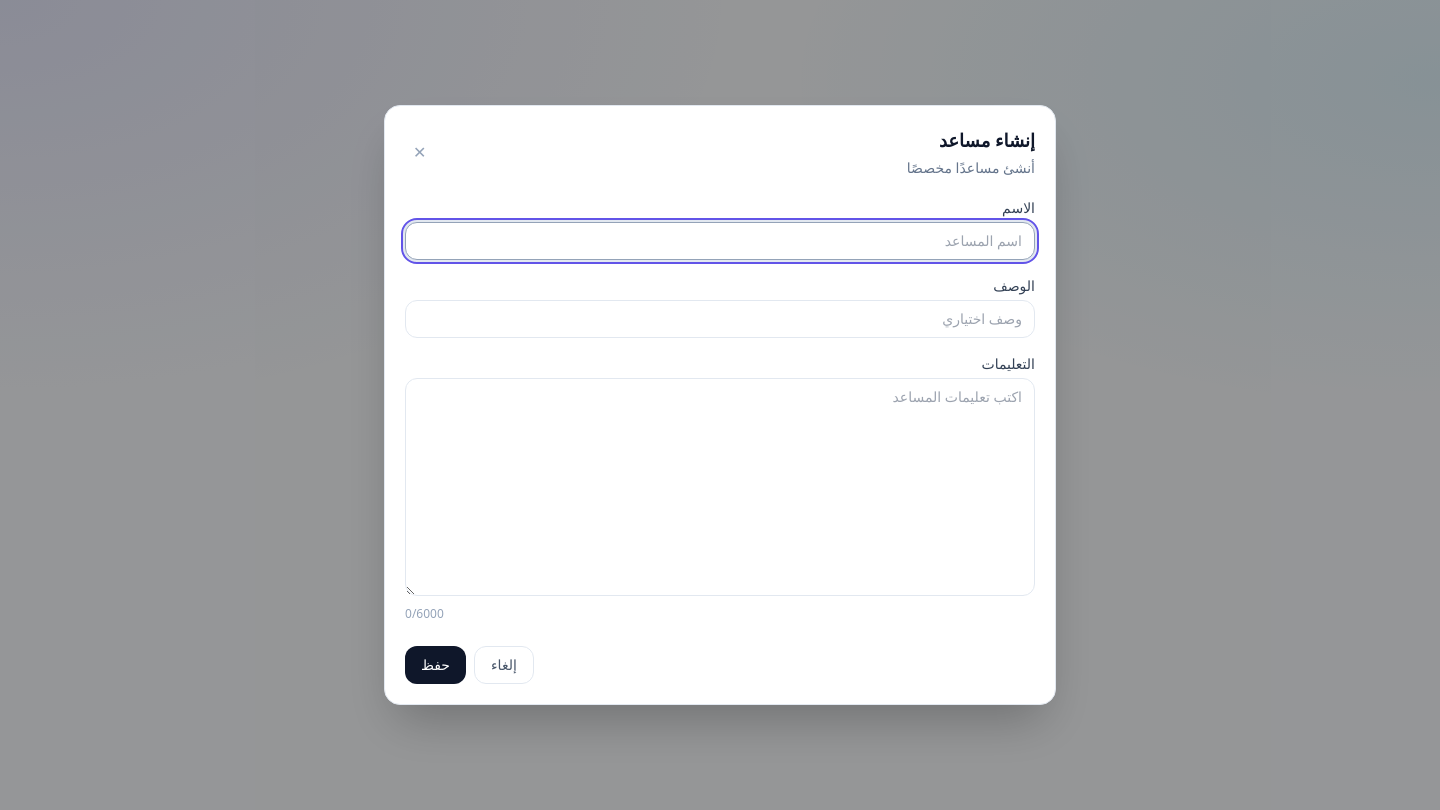
AssistantEditor › validates required fields
Click the button "حفظ": [436, 665] box [405,646,466,684]
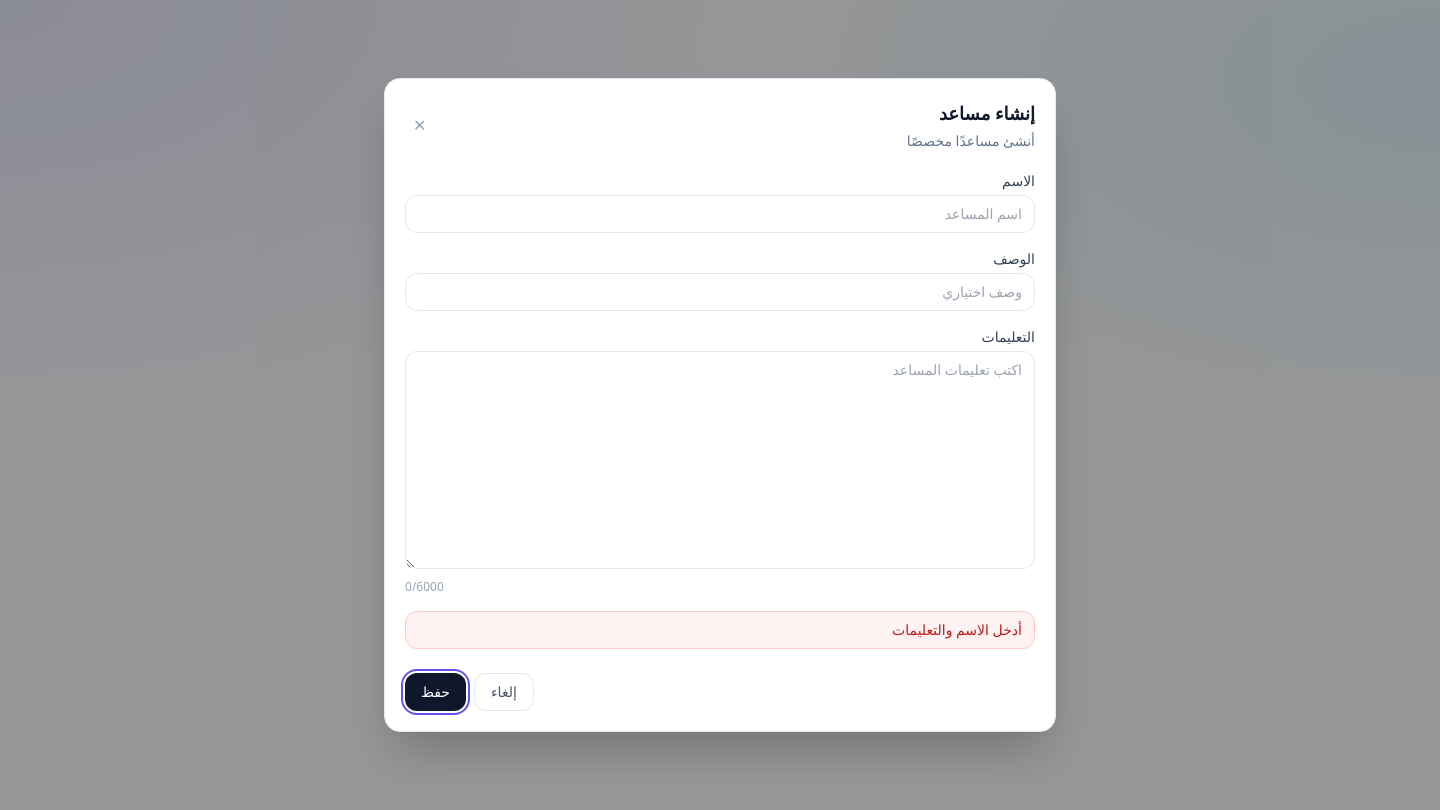
Now the message reads "أدخل الاسم والتعليمات", box [892,620,1022,639]
